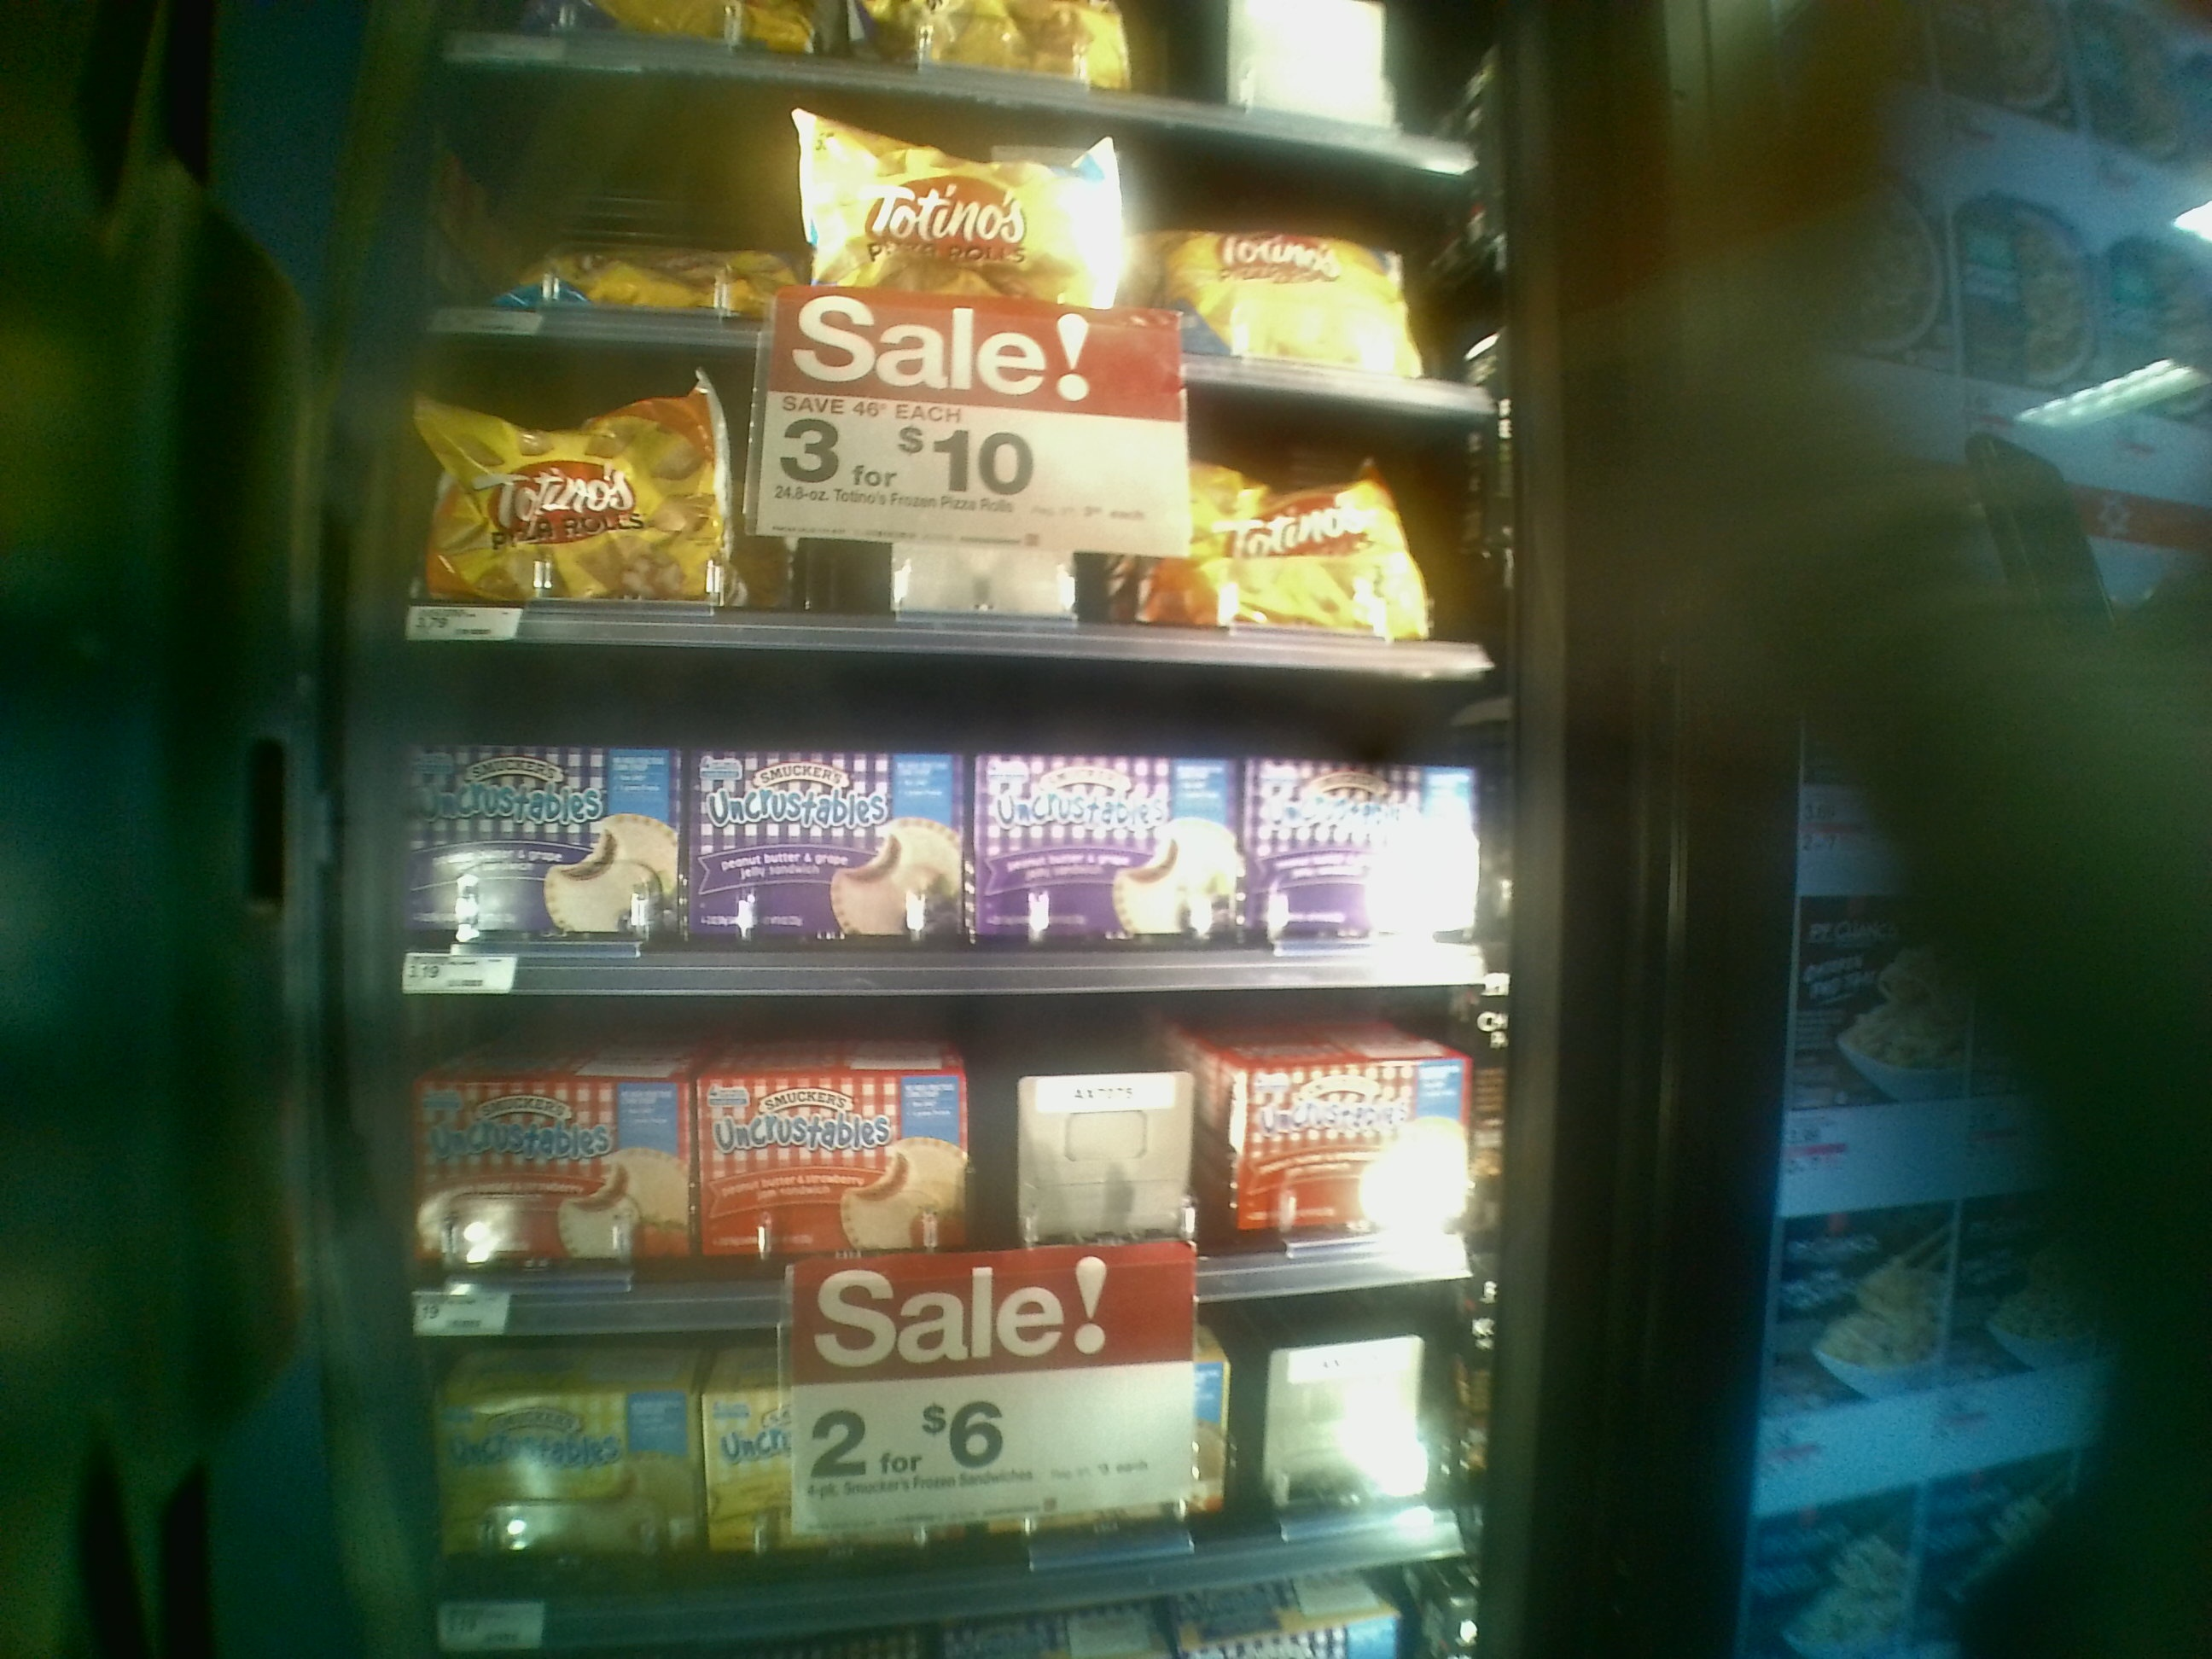shelf: (381, 636, 1496, 967), (404, 319, 1484, 660), (371, 972, 1468, 1283), (383, 1298, 1468, 1551)
